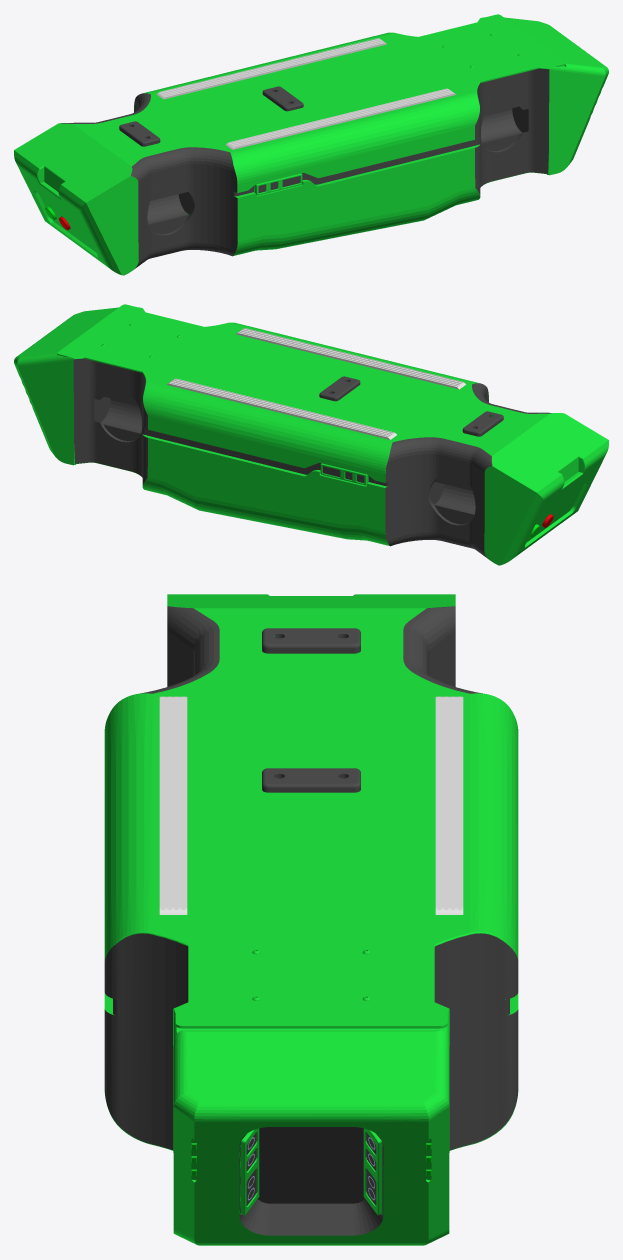
The picture shows the model from 3 angles, top to bottom: view 1: azimuth 30°, elevation 25°; view 2: azimuth 150°, elevation 25°; view 3: azimuth 270°, elevation 25°; orthographic projection. The views are drawn at different scales.
Parts seen in each view (by area): view 1: Body; view 2: Body; view 3: Body.
Part boxes in pixels (x1,y1,x2,y2): Body: (14,14,608,275); Body: (14,304,608,565); Body: (104,594,518,1245).
Bounding box in the file's own units: 0.8907 × 0.3 × 0.1864.
